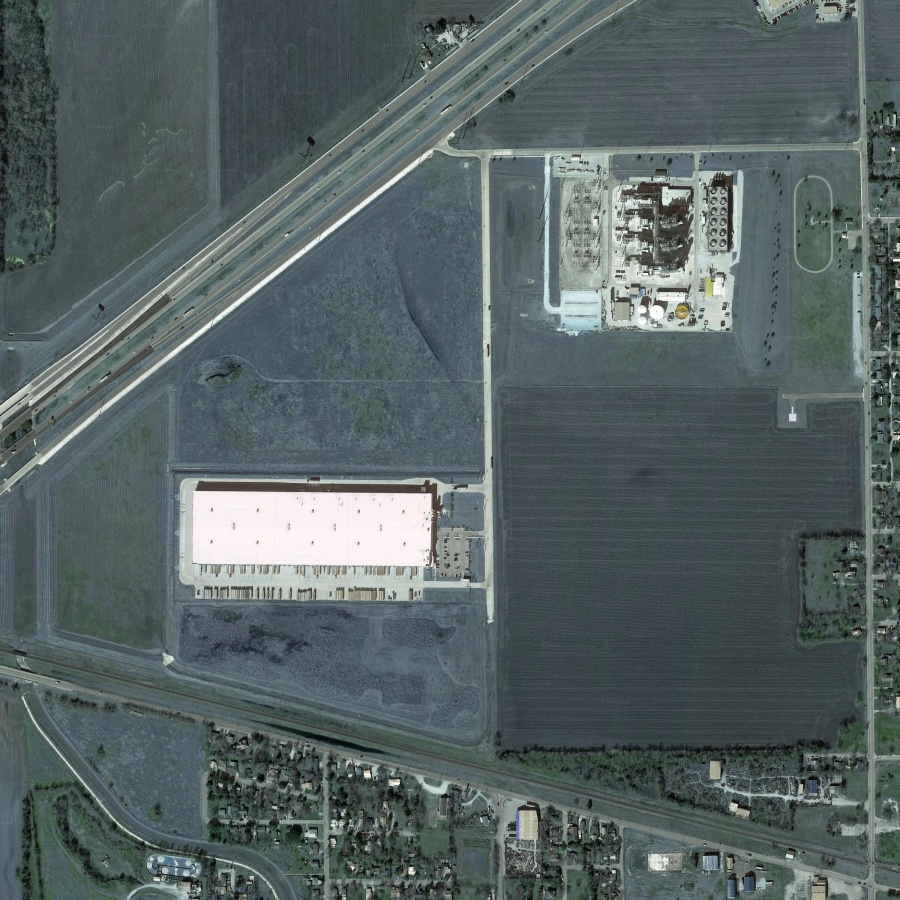PowerPlant: (546, 149, 740, 338)
